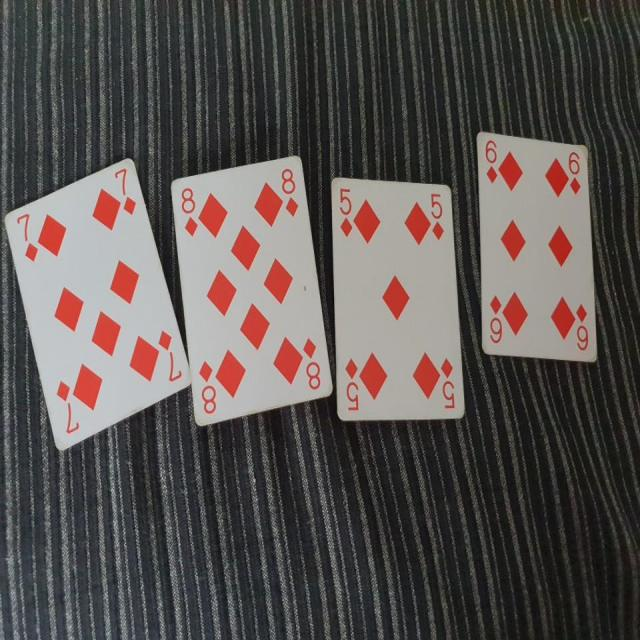5 Diamonds: (330, 175, 468, 424)
6 Diamonds: (474, 128, 599, 367)
7 Diamonds: (1, 155, 192, 454)
8 Diamonds: (171, 154, 334, 429)
